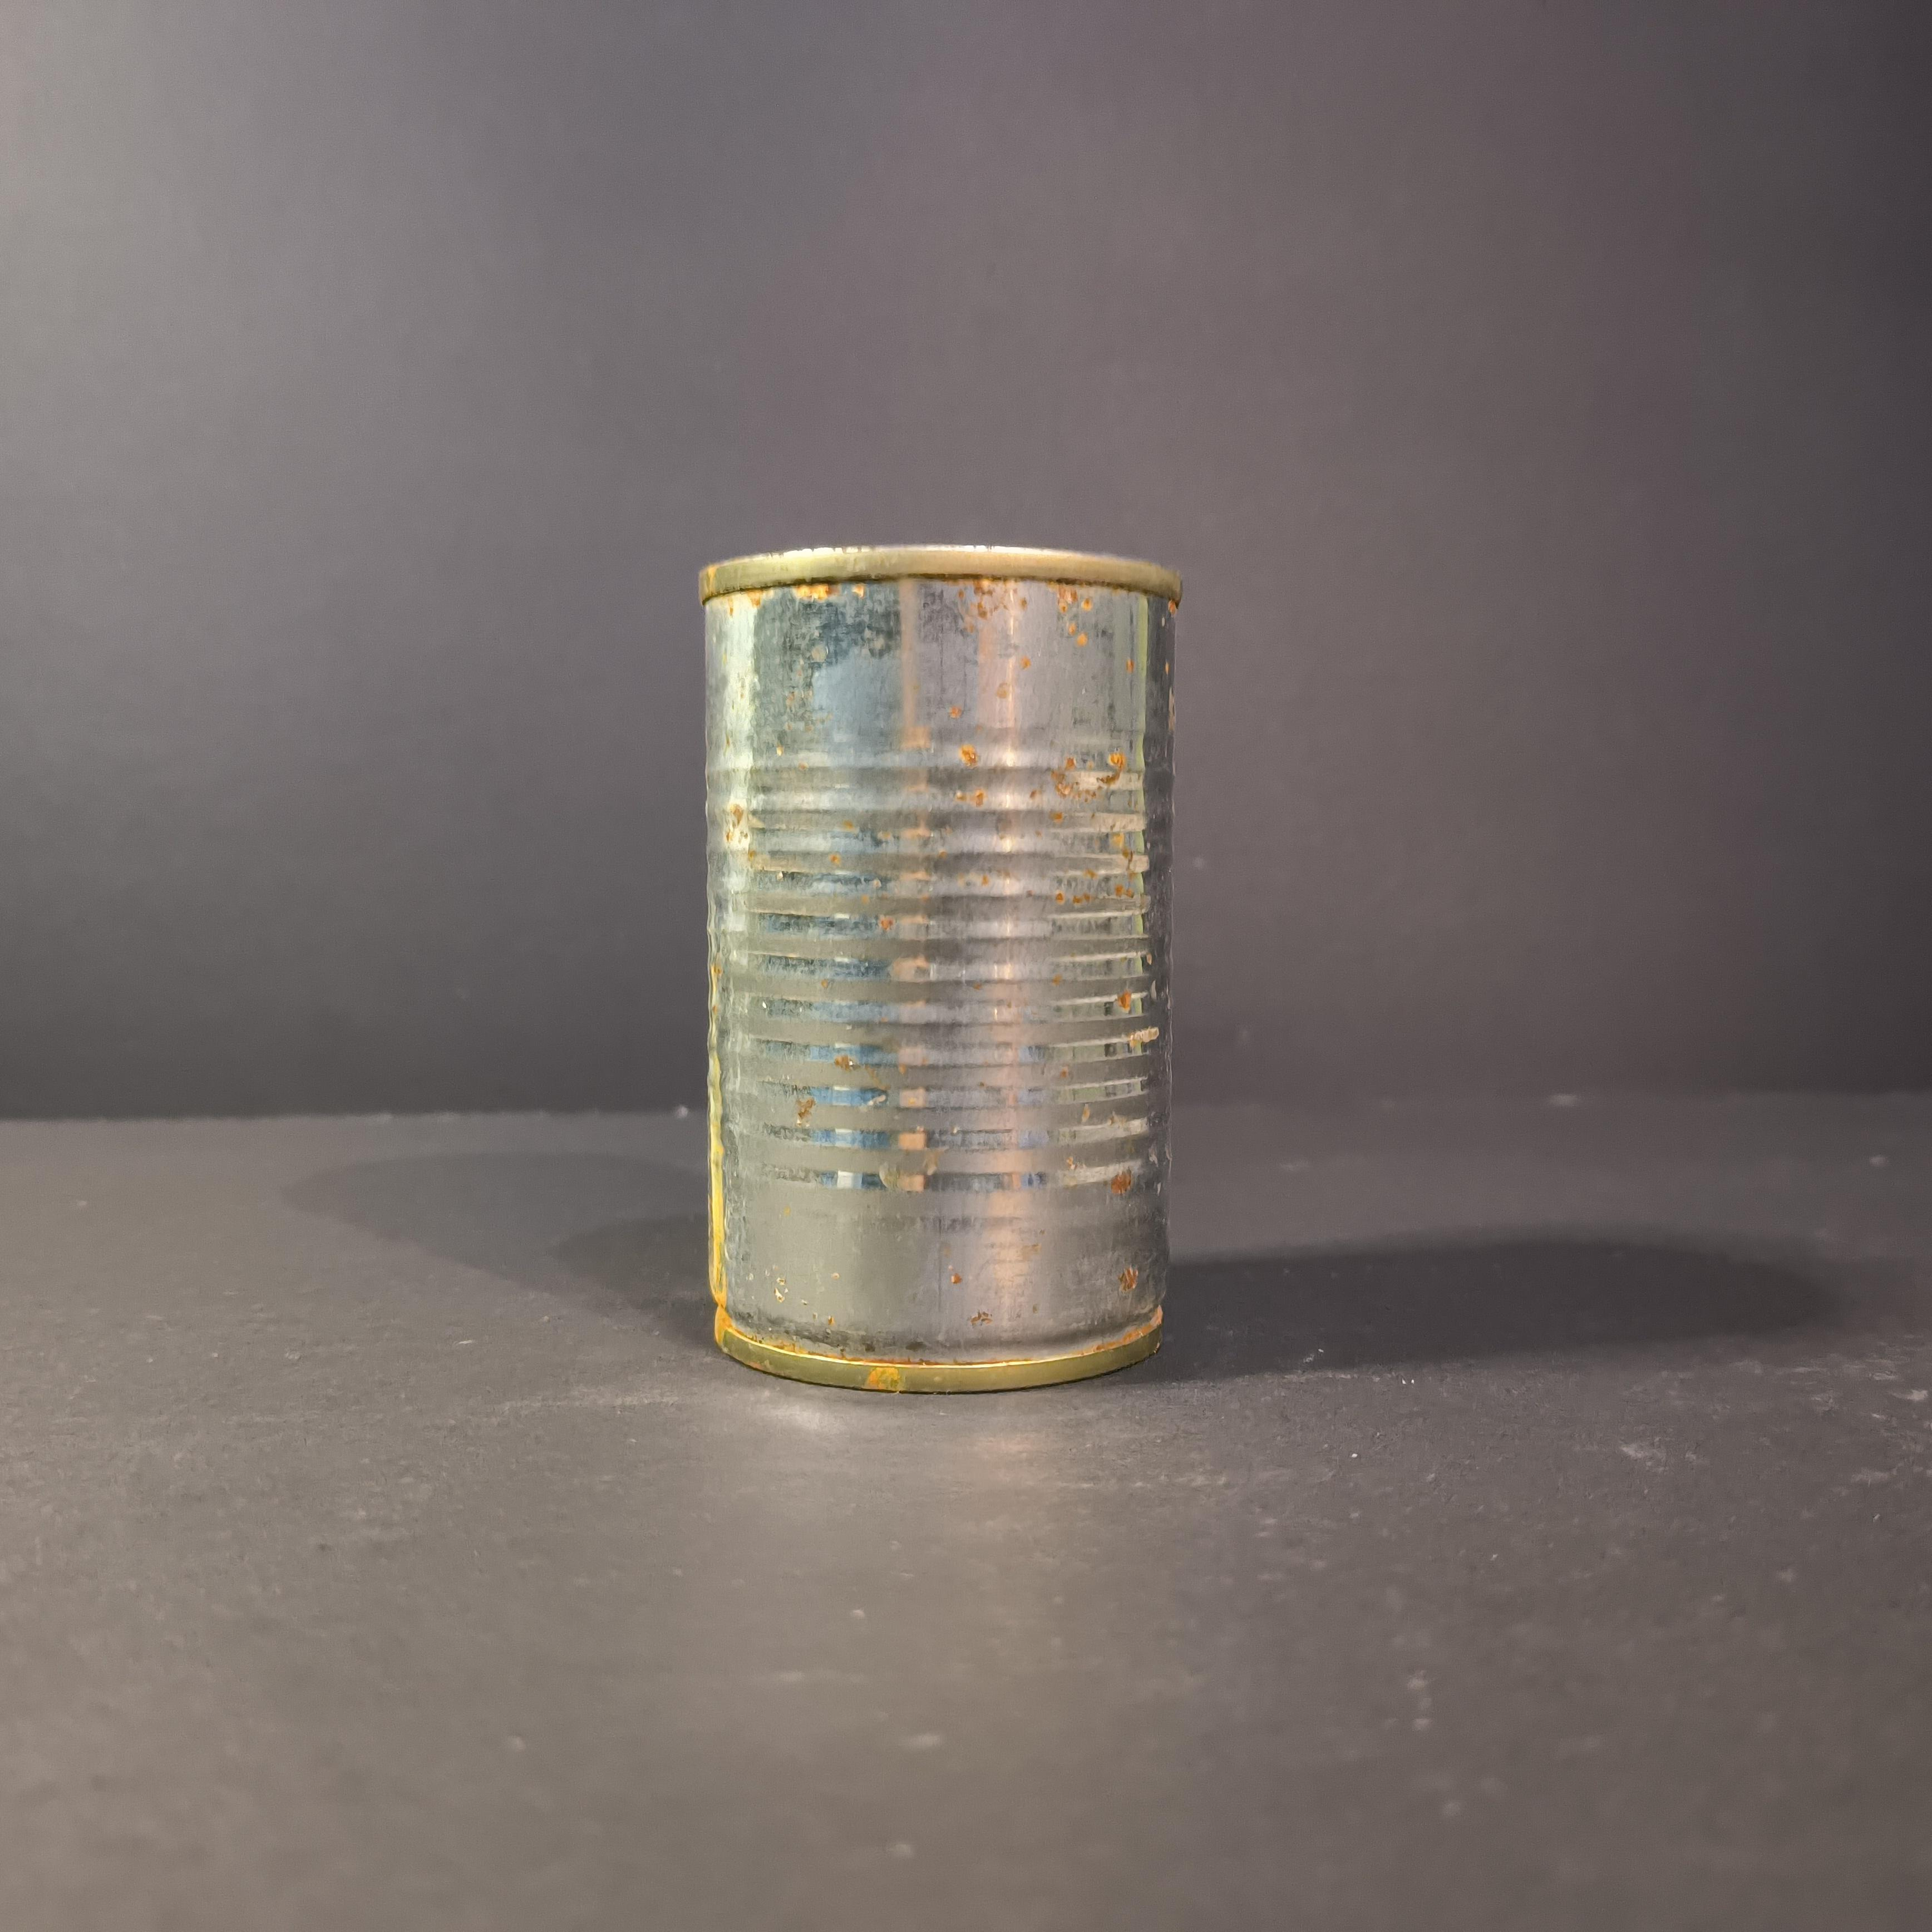Rusted: (690, 524, 1215, 1408)
